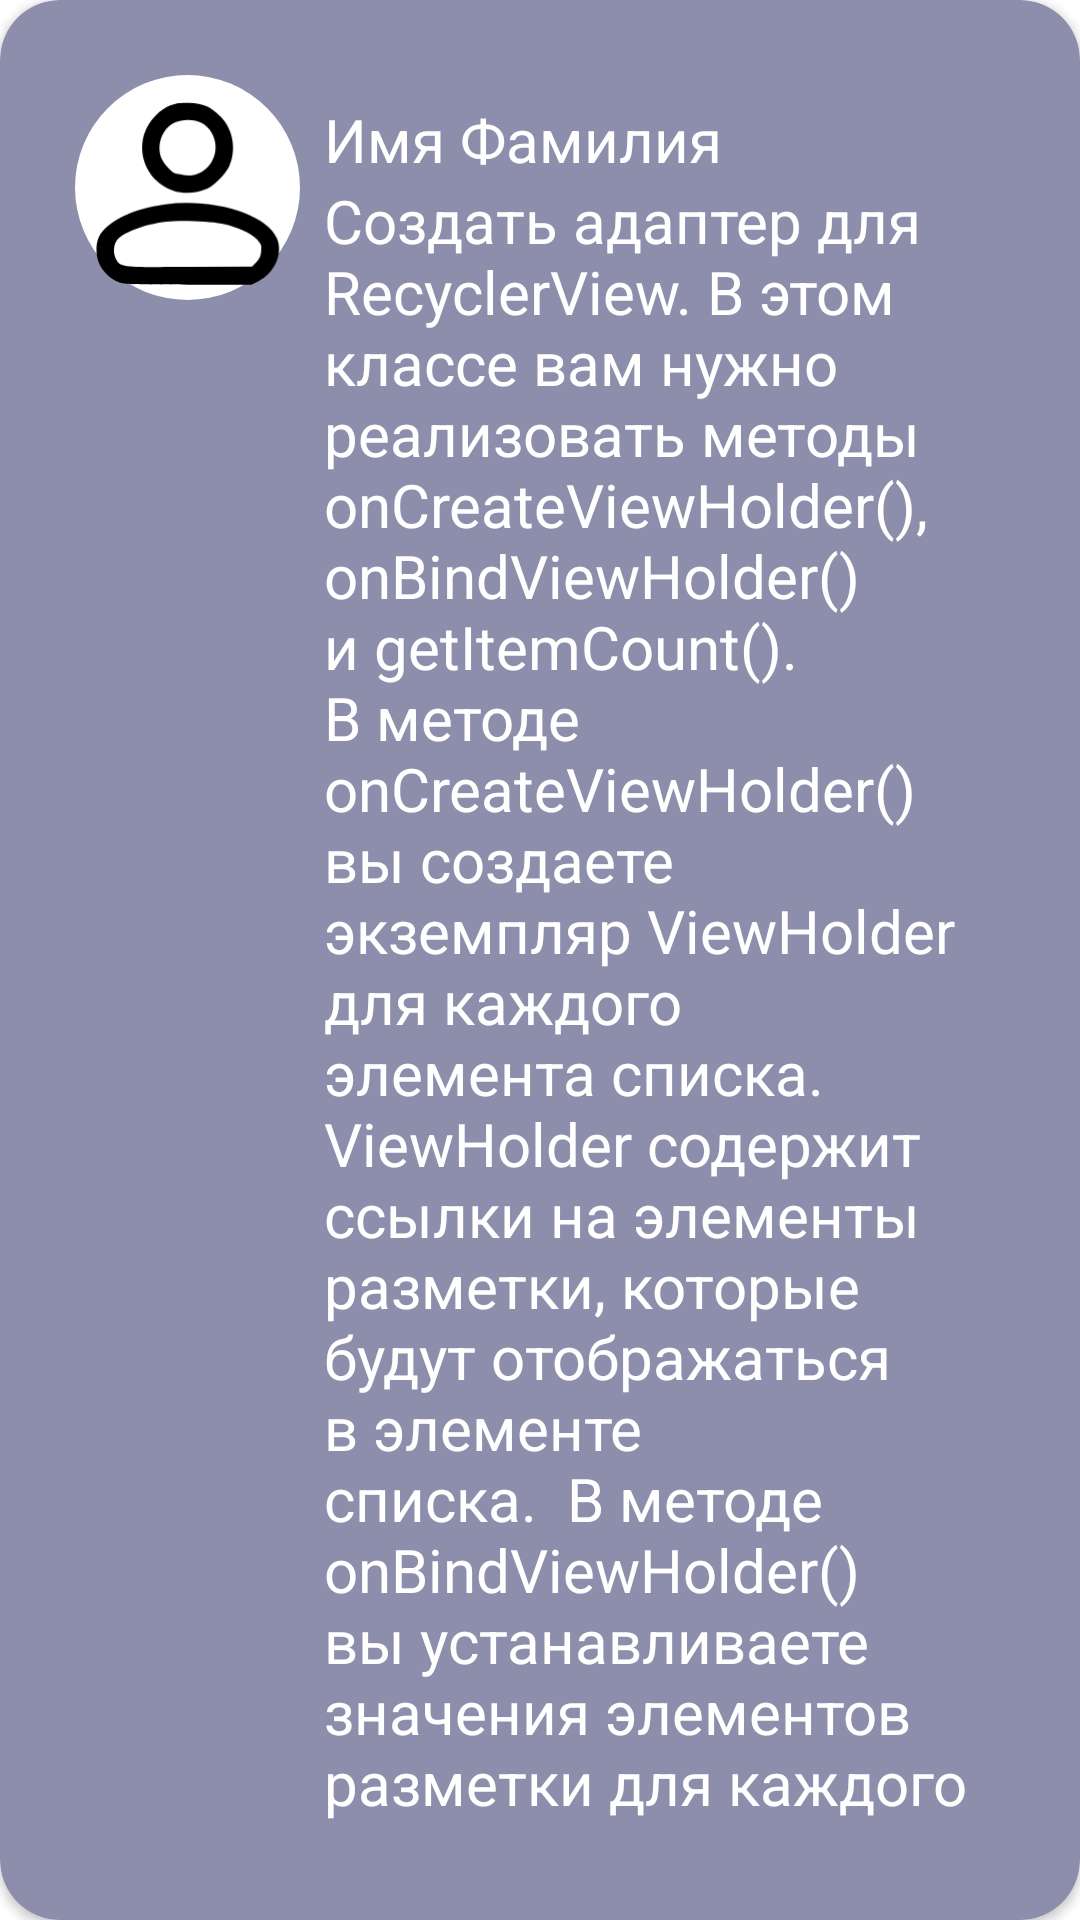

Where icons sit on this 1080*1920 app screen, as (x1,y1,x2,y2):
ava: (75,75,300,300)
